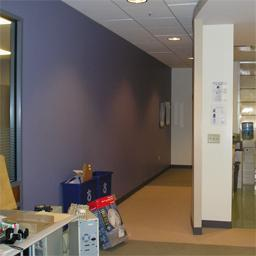Bote de Basura: (65, 166, 96, 211), (98, 168, 112, 201)
Otro Obstaculo: (94, 198, 131, 248)
